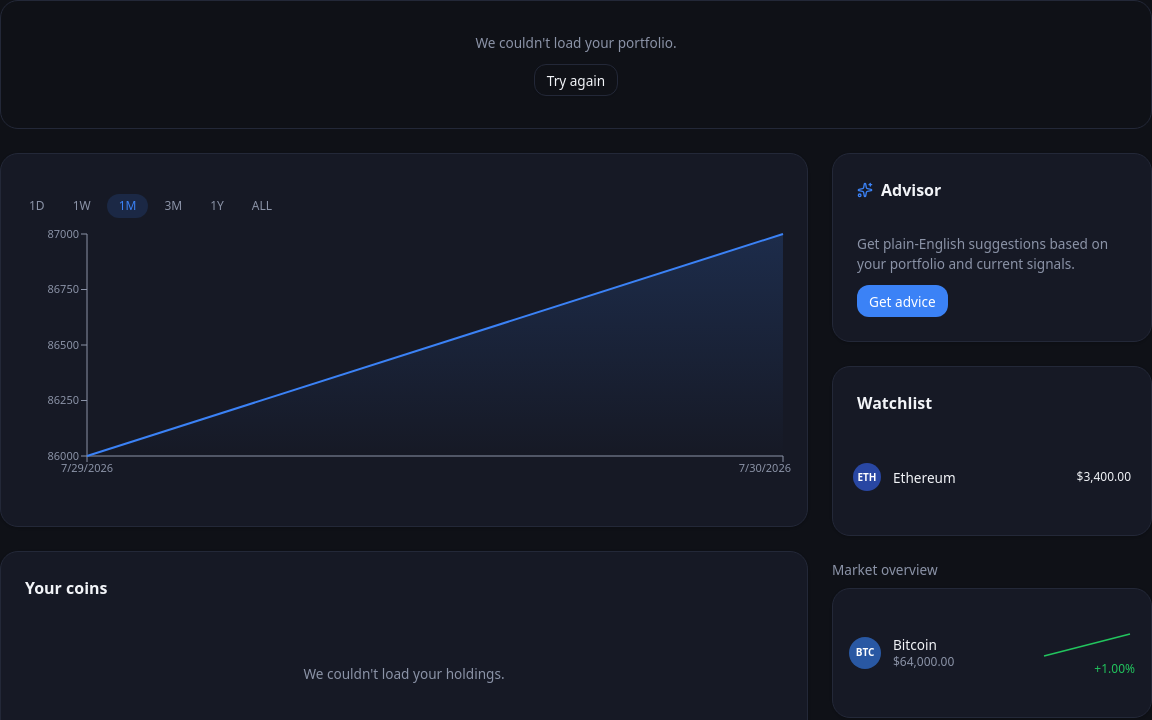
DashboardPage › shows a portfolio error state with retry in the stat card area, and recovers on retry
Expected: the text "We couldn't load your portfolio." is shown, [475, 33, 677, 52]
Expected: the text "We couldn't load your holdings." is shown, [303, 664, 505, 683]
Click the button "Try again": x=576, y=80 [534, 64, 618, 96]
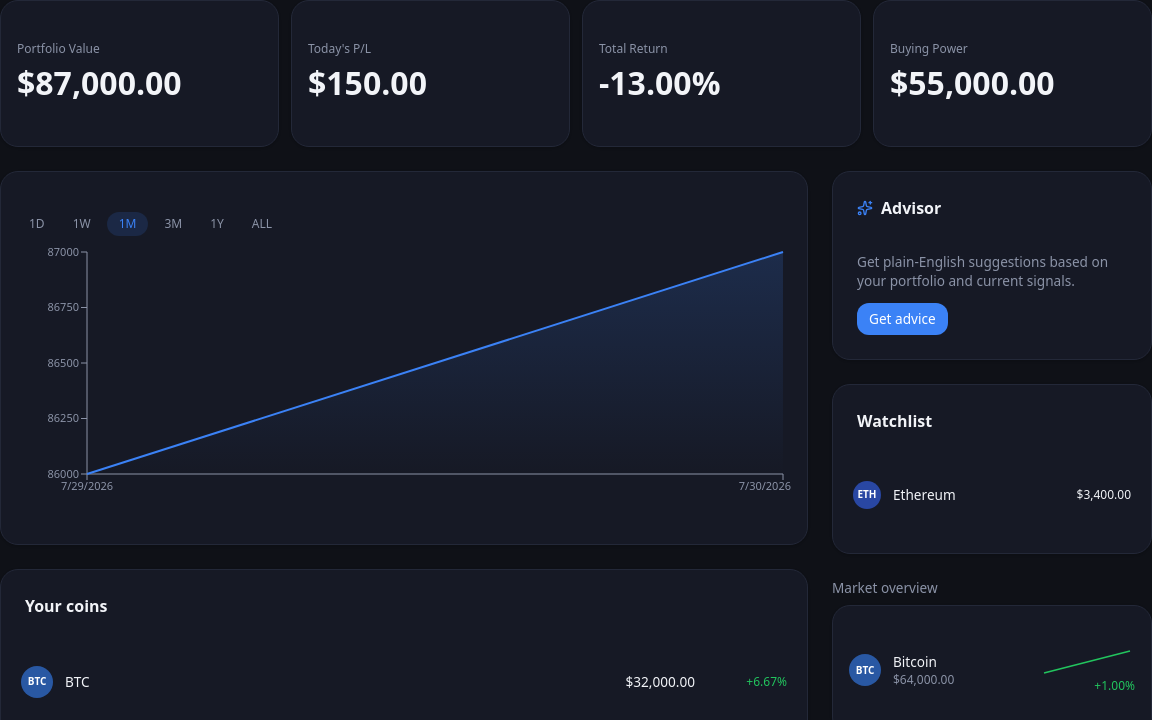
Now the text "Portfolio Value" is shown, box [17, 40, 100, 57]
Now the text "$87,000.00" is shown, box [17, 61, 182, 104]
